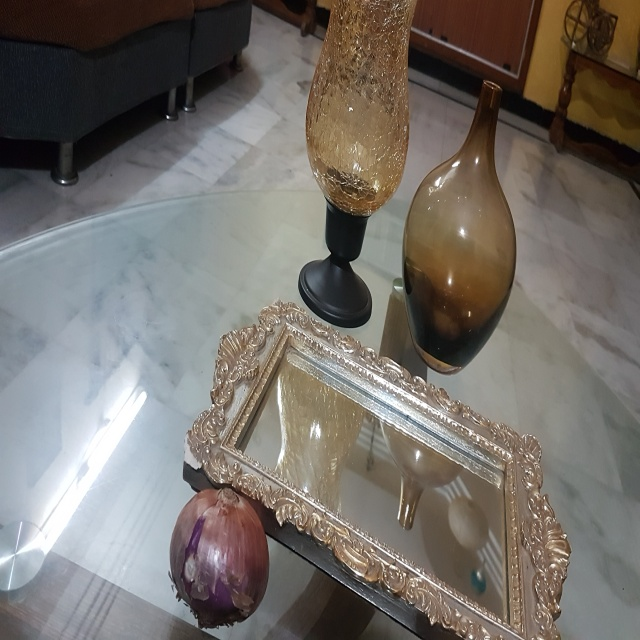onion: (165, 489, 283, 638)
